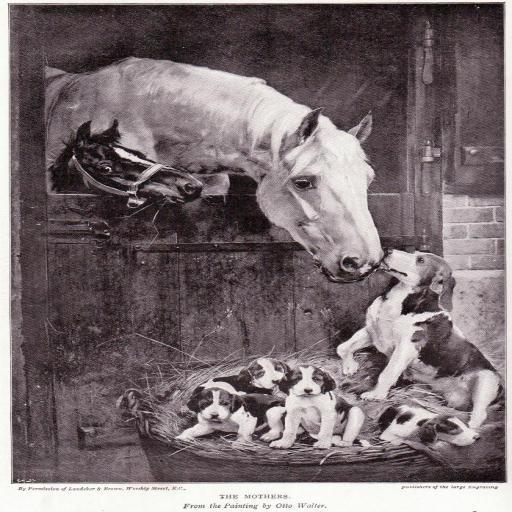horse: (45, 56, 388, 286), (43, 118, 203, 206)
